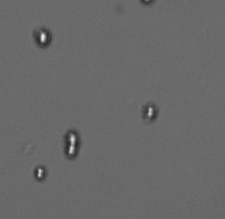Living Cell: (33, 28, 53, 47), (141, 102, 159, 123), (64, 128, 81, 145), (64, 145, 81, 161), (34, 165, 50, 181)
